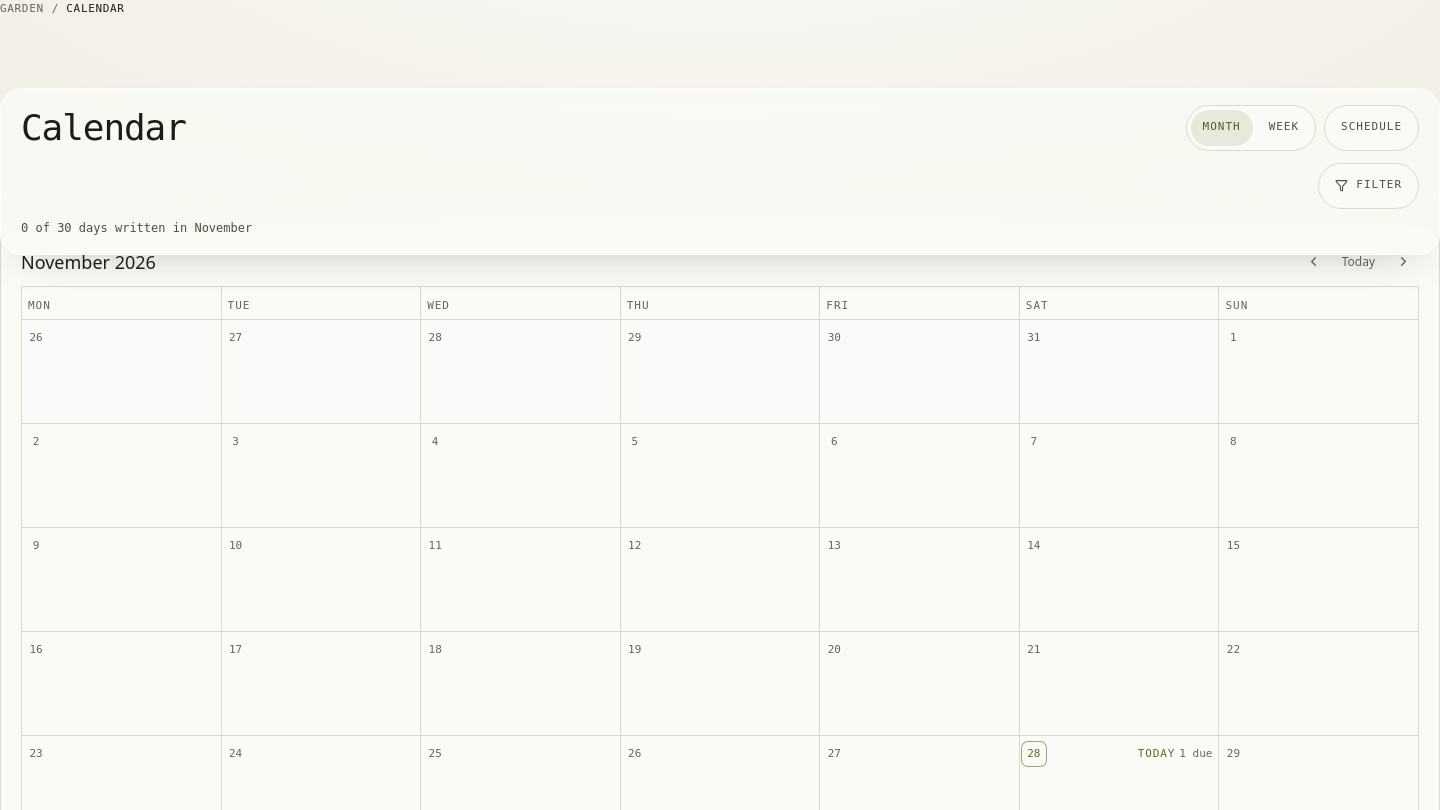
Test: CalendarPage — month › names today's panel list as due today
Expected: the text "1 due" is shown, [1179, 745, 1212, 763]
Click the button "28" in the row of "due" at (1034, 754), box [1022, 742, 1046, 766]
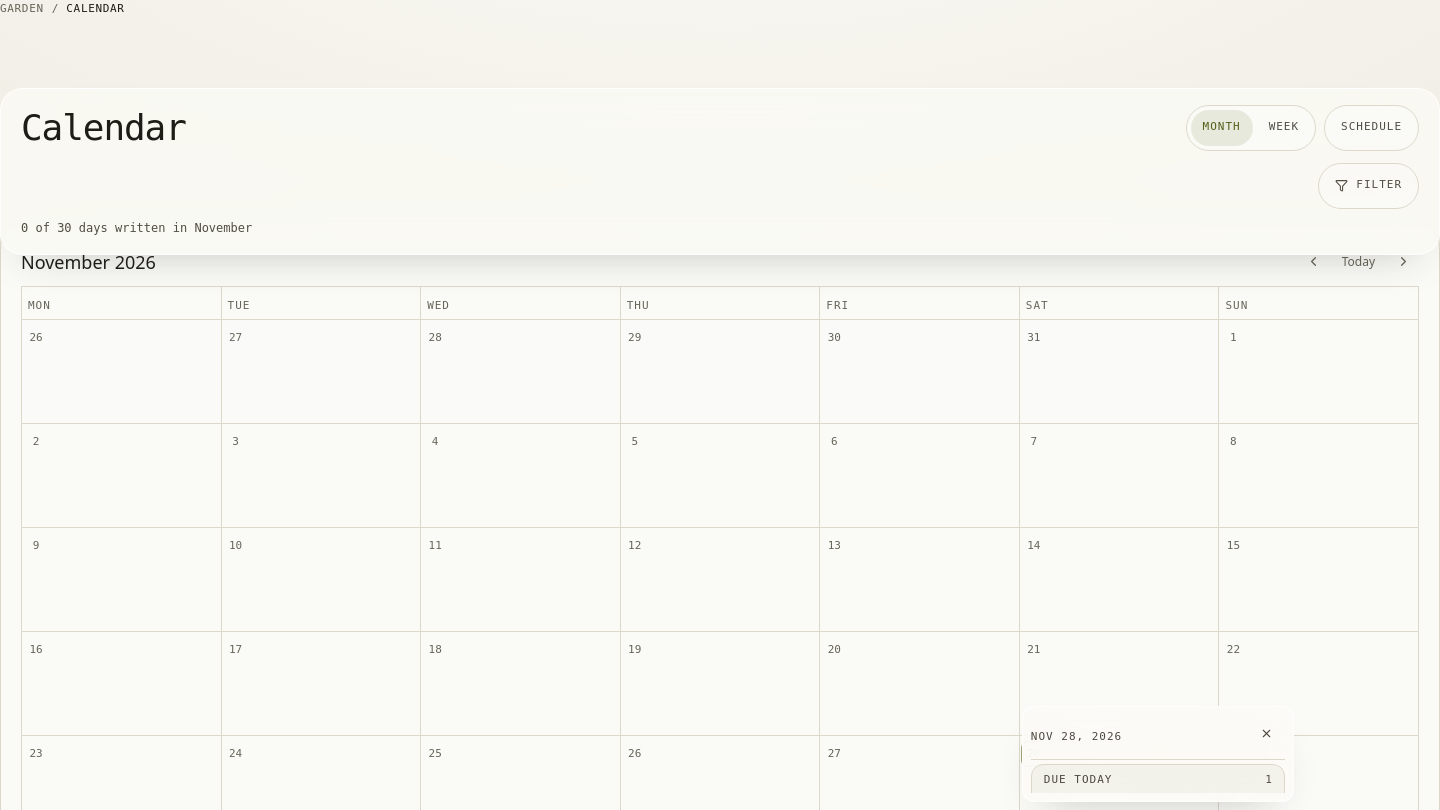
Expected: the text "Due today" is shown, [1044, 772, 1112, 788]
